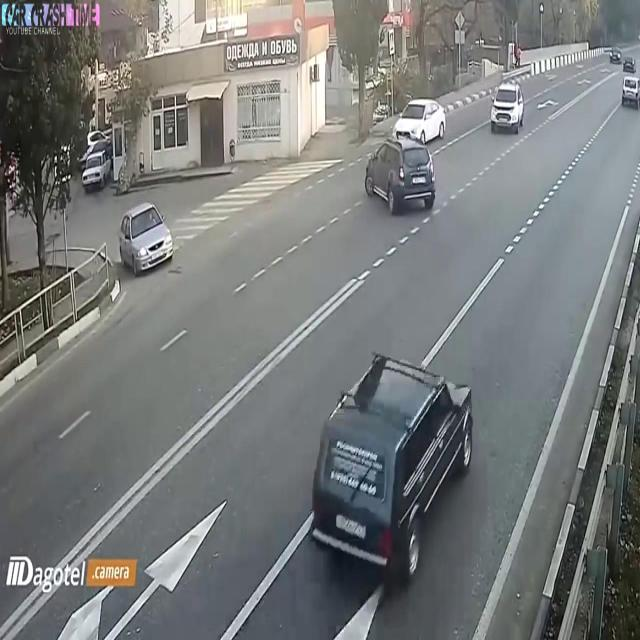non_accident: (358, 92, 456, 221)
